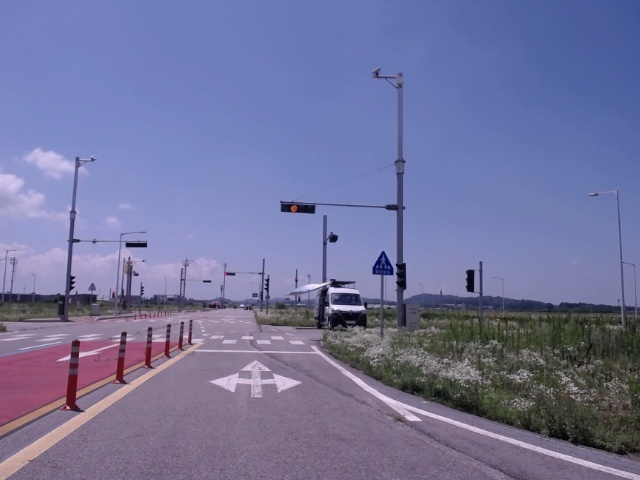orange_4: (281, 202, 316, 215)
